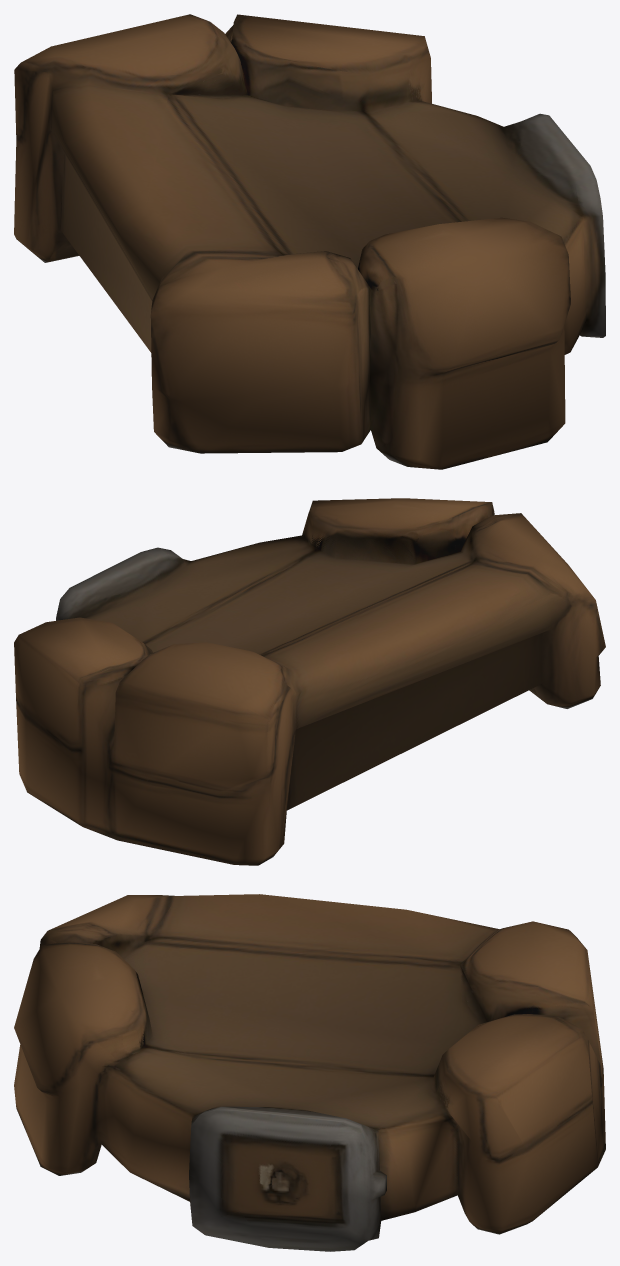
Rendered from leather_belt.glb.
The picture shows the model from 3 angles, top to bottom: view 1: azimuth 30°, elevation 25°; view 2: azimuth 150°, elevation 25°; view 3: azimuth 270°, elevation 25°; orthographic projection. The views are drawn at different scales.
Visible parts, largest first — view 1: tripo_node_35a6b7e2-9fcb-4ba6-a96a-1985aaa567bc; view 2: tripo_node_35a6b7e2-9fcb-4ba6-a96a-1985aaa567bc; view 3: tripo_node_35a6b7e2-9fcb-4ba6-a96a-1985aaa567bc.
Boxes of the visible parts, <box> form: tripo_node_35a6b7e2-9fcb-4ba6-a96a-1985aaa567bc: <box>14,14,605,469</box>; tripo_node_35a6b7e2-9fcb-4ba6-a96a-1985aaa567bc: <box>14,498,605,865</box>; tripo_node_35a6b7e2-9fcb-4ba6-a96a-1985aaa567bc: <box>14,894,605,1251</box>.
Size of the model in its own units: 0.8379 by 0.3379 by 0.998.
1 material, 1 textured.
